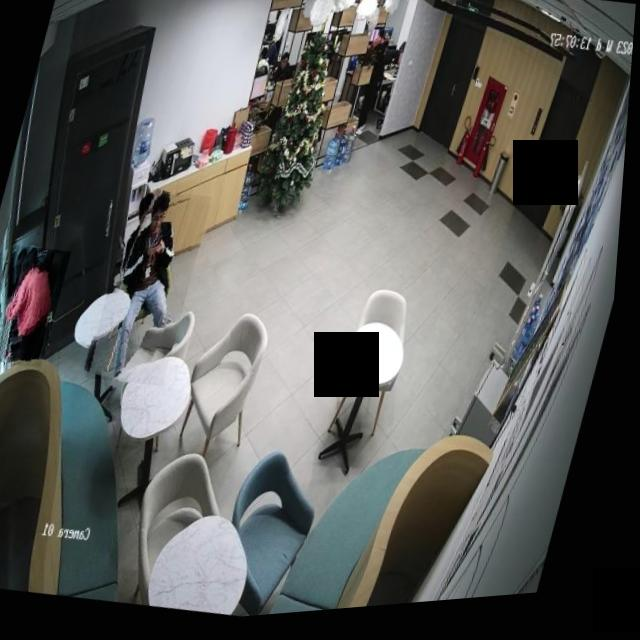person: (90, 185, 216, 395), (0, 242, 76, 372)
